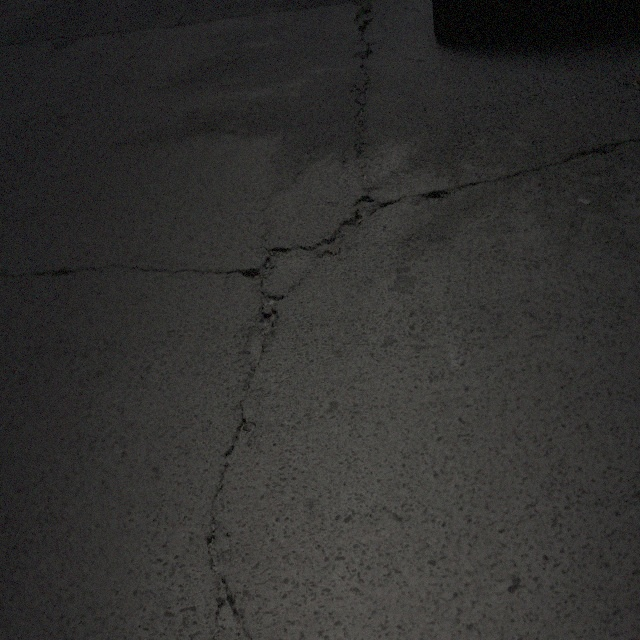pothole: (214, 577, 248, 634), (324, 220, 358, 260), (229, 416, 255, 462), (254, 296, 283, 335), (424, 183, 454, 206), (266, 246, 292, 268), (354, 7, 372, 34), (356, 195, 374, 217), (239, 268, 262, 284)
